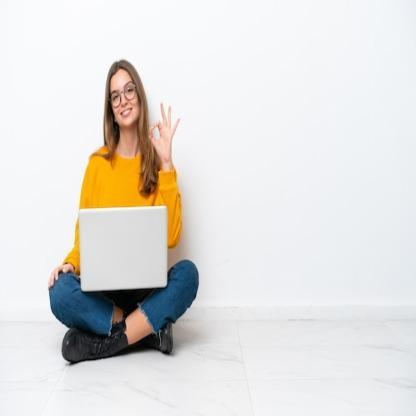ok: (147, 100, 182, 165)
